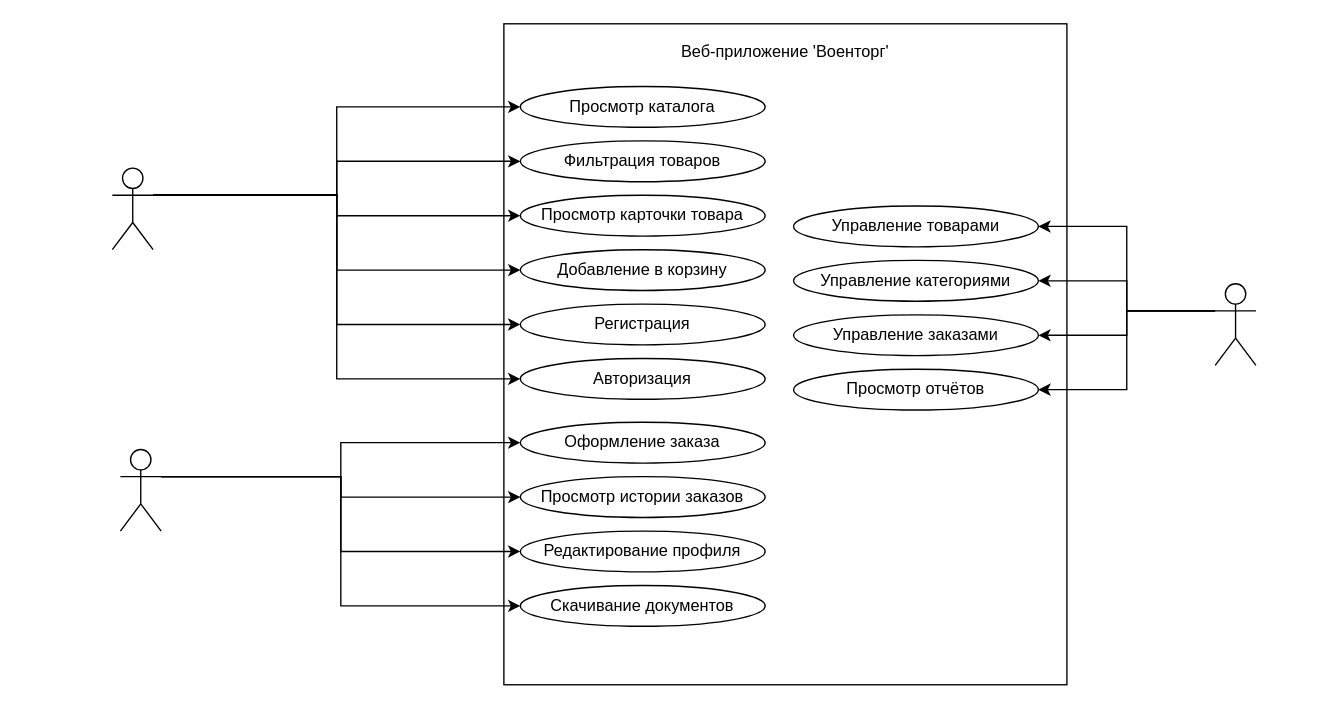
This 1318x709 diagram has some shape labels left out. The centre of each missing label's shape, as x and y in pixels:
Авторизованный пользователь: point (140, 489)
Администратор: point (1235, 323)
Гость: point (132, 208)
